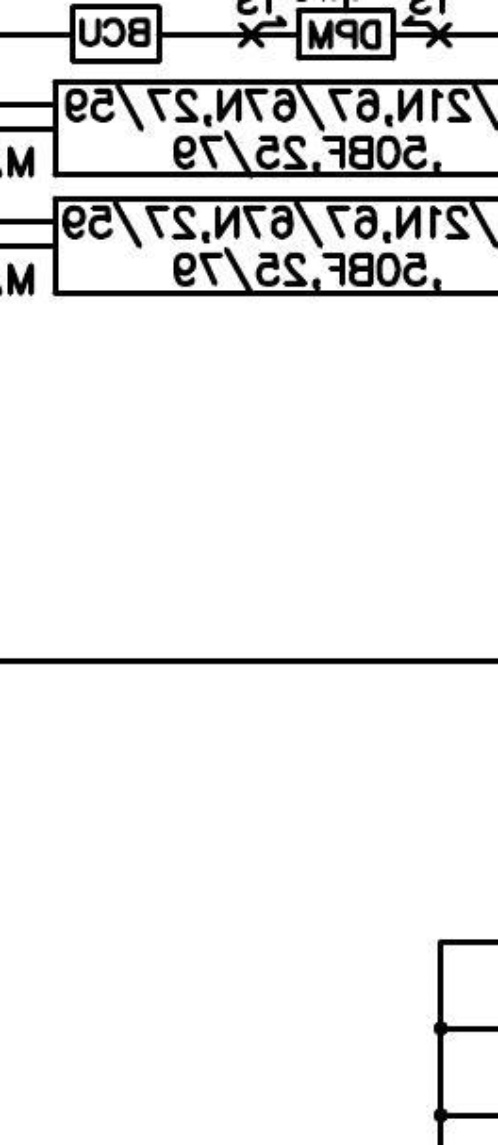BCU: (68, 3, 164, 65)
DPM: (295, 6, 397, 61)
